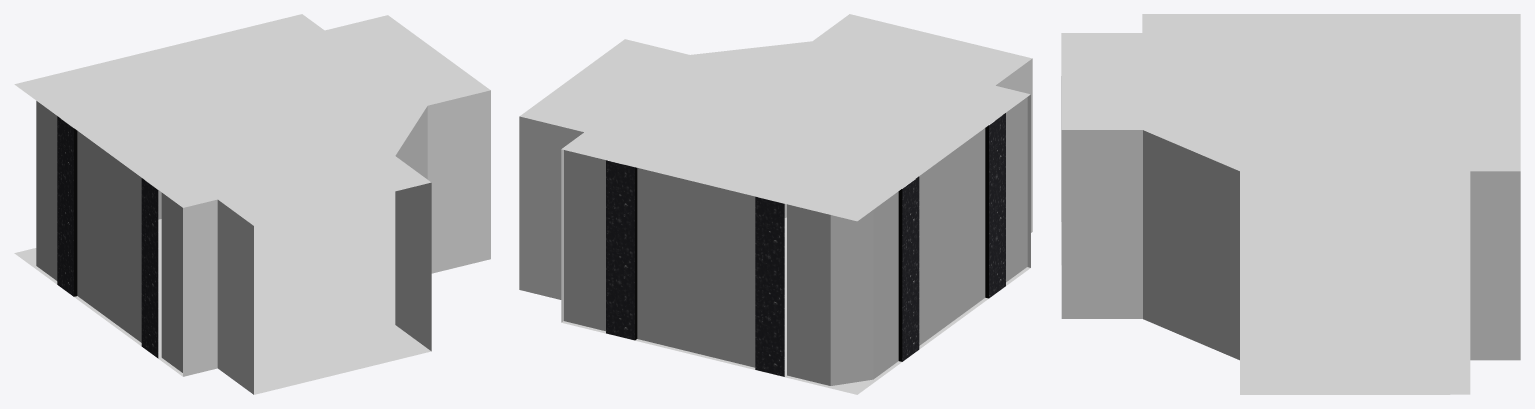
The model's file is room2c_special.gltf.
3 views of the same model, side by side, from view 1: azimuth 30°, elevation 25°; view 2: azimuth 150°, elevation 25°; view 3: azimuth 270°, elevation 25° (orthographic). The views are drawn at different scales.
Visible parts, largest first — view 1: Cube, site19_wall_cb_modern.001; view 2: site19_wall_cb_modern.001, Cube; view 3: Cube.
Part boxes in pixels (left/top/right/bottom): Cube: left=14, top=14, right=490, bottom=394; site19_wall_cb_modern.001: left=36, top=101, right=182, bottom=372; site19_wall_cb_modern.001: left=564, top=97, right=1027, bottom=385; Cube: left=519, top=14, right=1032, bottom=394; Cube: left=1061, top=14, right=1520, bottom=394.
Size of the model in its own units: 15.82 by 7.26 by 15.99.
15 materials, 4 textured.
